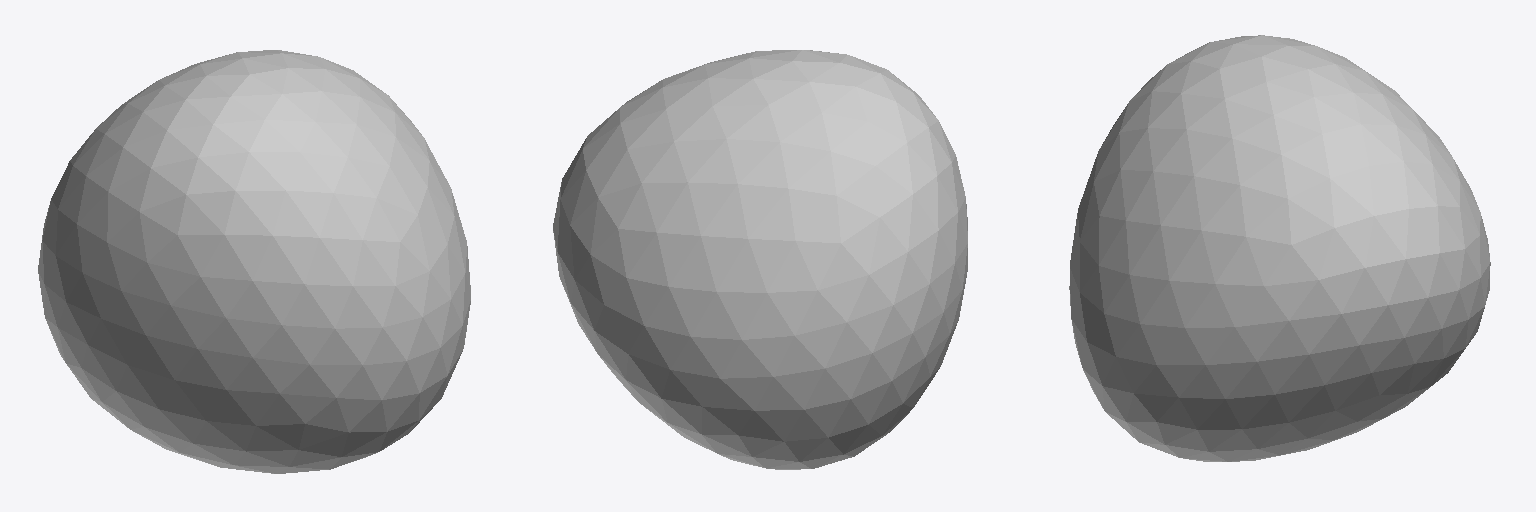
The model's file is asteroid26.obj.
3 renders of one model, left to right at view 1: azimuth 30°, elevation 25°; view 2: azimuth 150°, elevation 25°; view 3: azimuth 270°, elevation 25°, orthographic.
Parts seen in each view (by area): view 1: asteroid; view 2: asteroid; view 3: asteroid.
Part boxes in pixels (x1,y1,x2,y2): asteroid: (38, 50, 470, 473); asteroid: (553, 50, 967, 469); asteroid: (1069, 35, 1490, 461).
Size of the model in its own units: 44.44 by 44.57 by 44.31.